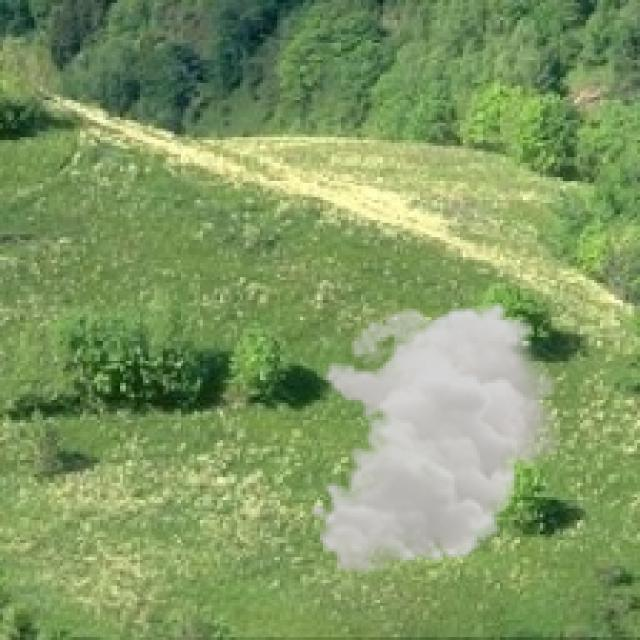smoke: (308, 300, 568, 574)
